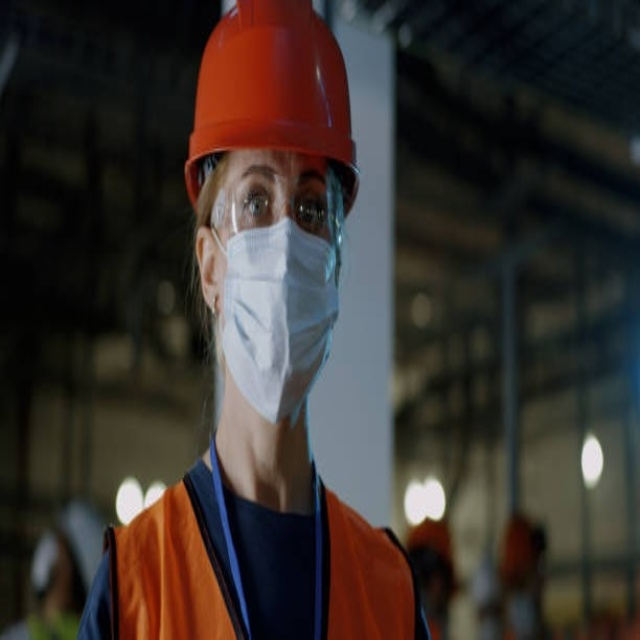Gafas: (204, 159, 340, 244)
Mascara: (209, 212, 342, 424)
